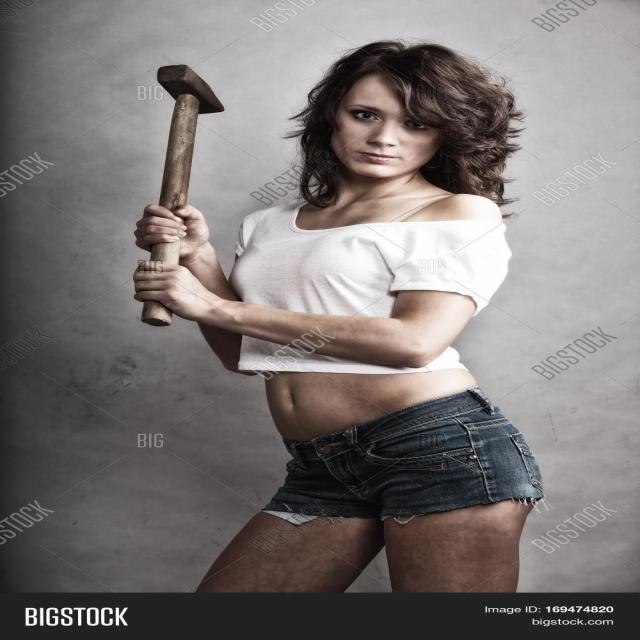hammer: (118, 55, 234, 336)
